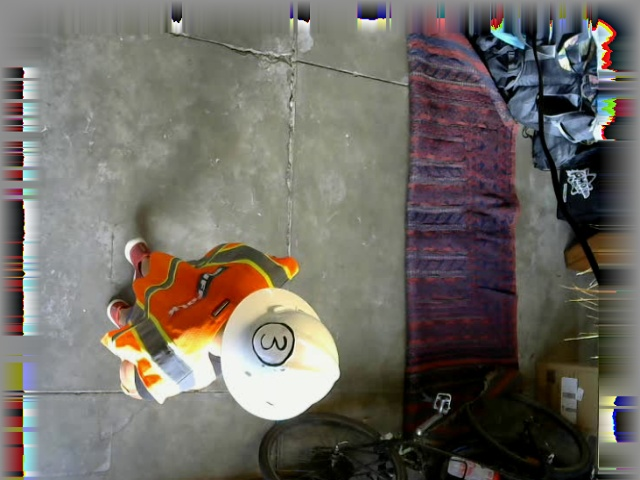three: (253, 322, 295, 365)
